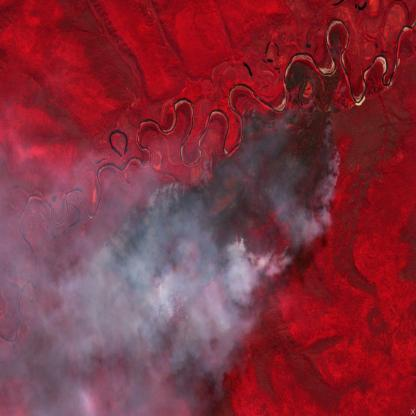fire: (91, 84, 346, 323)
